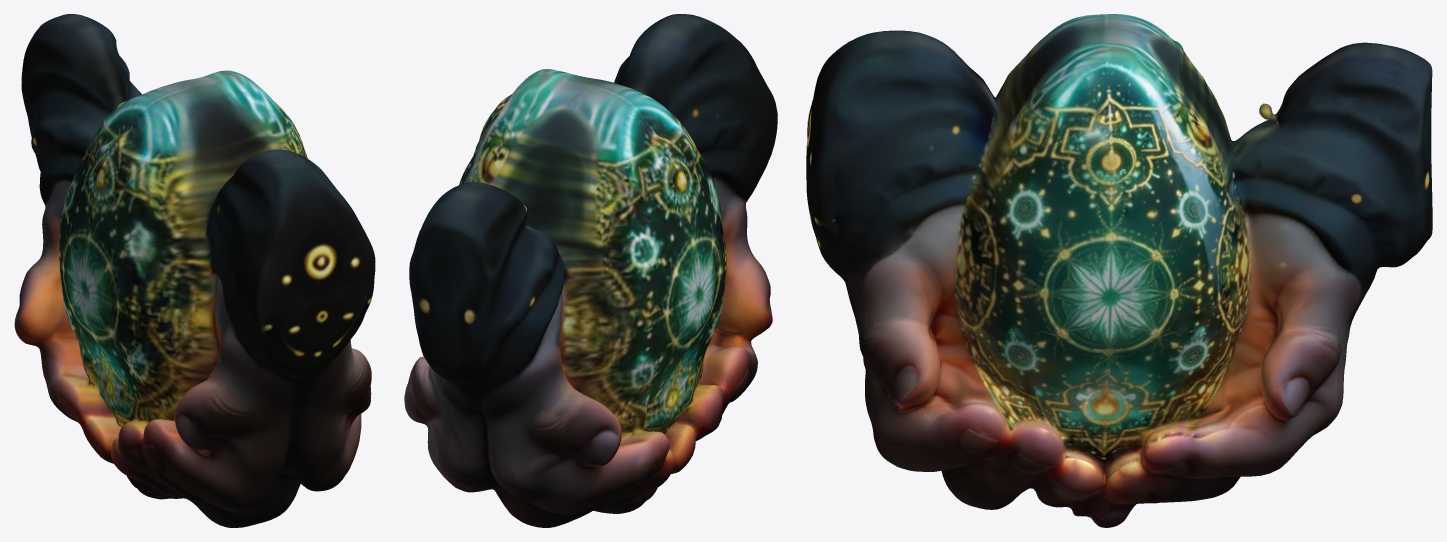
File: magic_egg.glb
3 views of the same model, side by side, from view 1: azimuth 30°, elevation 25°; view 2: azimuth 150°, elevation 25°; view 3: azimuth 270°, elevation 25° (orthographic). The views are drawn at different scales.
Parts seen in each view (by area): view 1: tripo_node_5d671f66-deef-451d-b1a6-62dfe8fc0c17; view 2: tripo_node_5d671f66-deef-451d-b1a6-62dfe8fc0c17; view 3: tripo_node_5d671f66-deef-451d-b1a6-62dfe8fc0c17.
Boxes of the visible parts, <box> form: tripo_node_5d671f66-deef-451d-b1a6-62dfe8fc0c17: <box>14,14,375,527</box>; tripo_node_5d671f66-deef-451d-b1a6-62dfe8fc0c17: <box>404,14,777,527</box>; tripo_node_5d671f66-deef-451d-b1a6-62dfe8fc0c17: <box>806,14,1432,527</box>.
Bounding box in the file's own units: 0.3661 × 0.6427 × 0.7639.
Materials: 1 (1 with a texture image).
